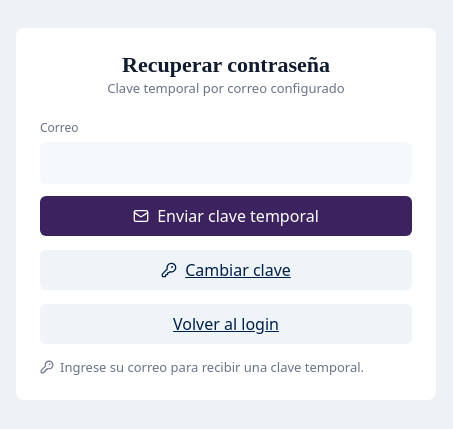
Test: ForgotPasswordForm › valida correo y evita enviar dos veces
Click the button "Enviar clave temporal" at coordinates (226, 216), box [40,196,412,236]
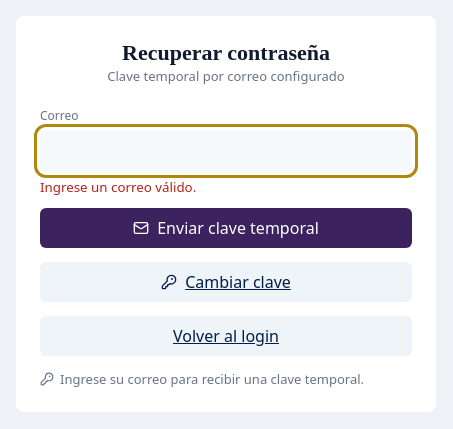
Expected: the message "Ingrese un correo válido." is shown, [40,178,196,196]
